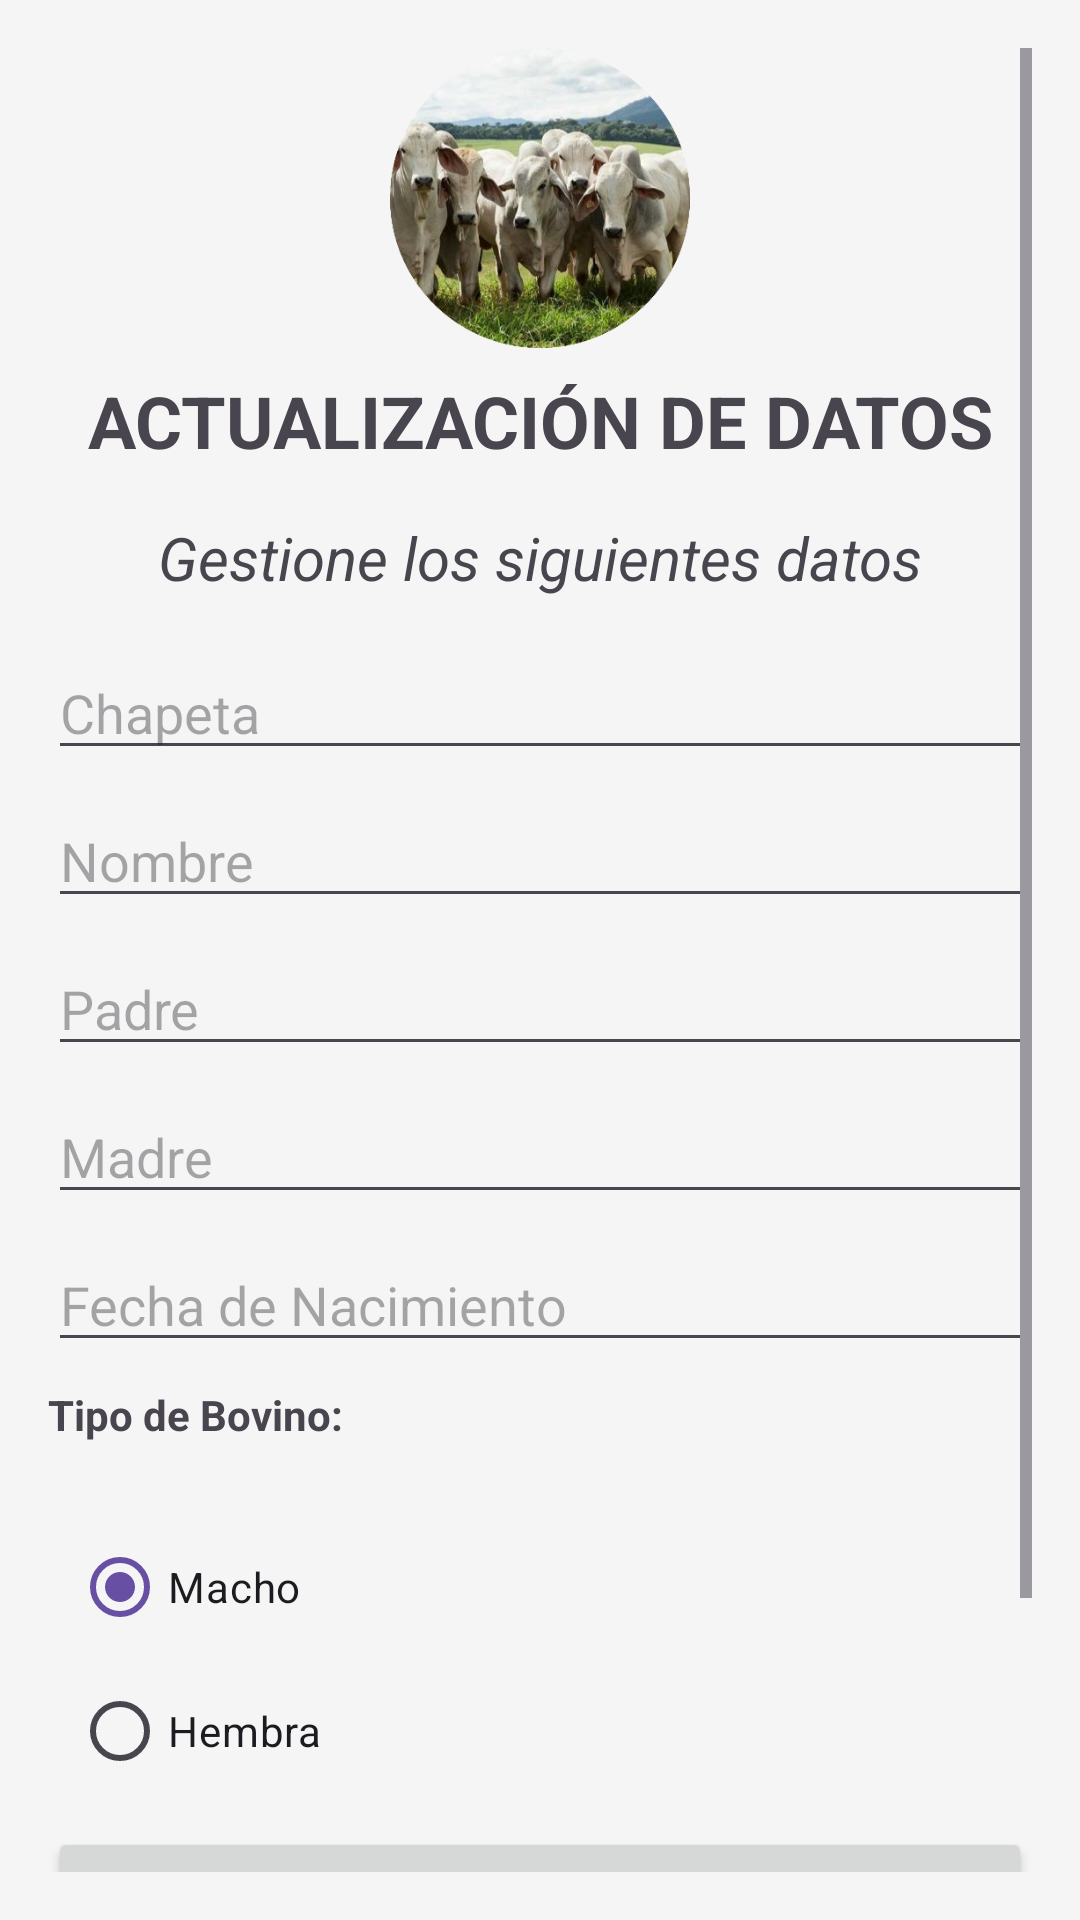

Icons on this 1080x1920 Android screen, each with the point to tap as [x,y]:
regisfotor: [540,207]
